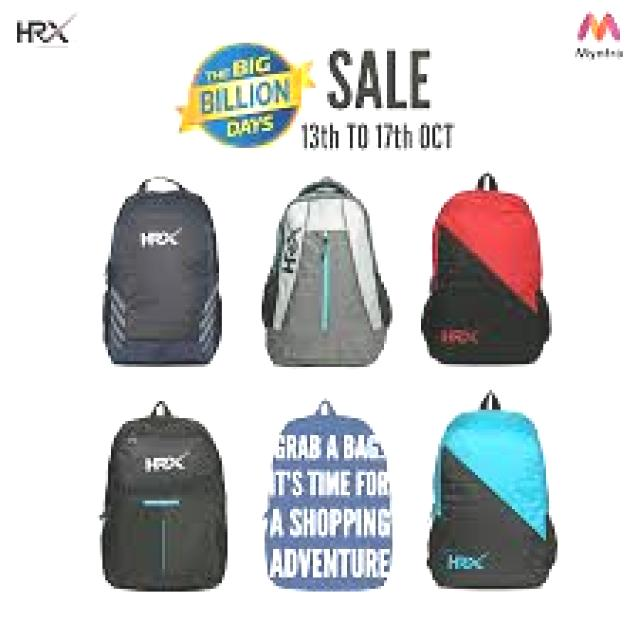backpack: (425, 391, 559, 590), (260, 174, 394, 368), (98, 399, 229, 593), (419, 172, 550, 366), (101, 175, 223, 365)
